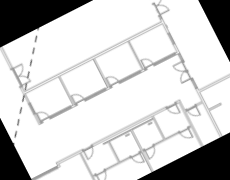door: (177, 127, 195, 144), (143, 143, 160, 161), (185, 104, 202, 121), (81, 144, 98, 161), (130, 151, 146, 168), (166, 103, 182, 119), (70, 90, 85, 105), (35, 108, 49, 123), (93, 169, 112, 180), (140, 55, 154, 69), (106, 73, 119, 87)
double door: (170, 59, 194, 86), (10, 62, 32, 88), (148, 0, 171, 18)
window: (164, 30, 178, 47)
